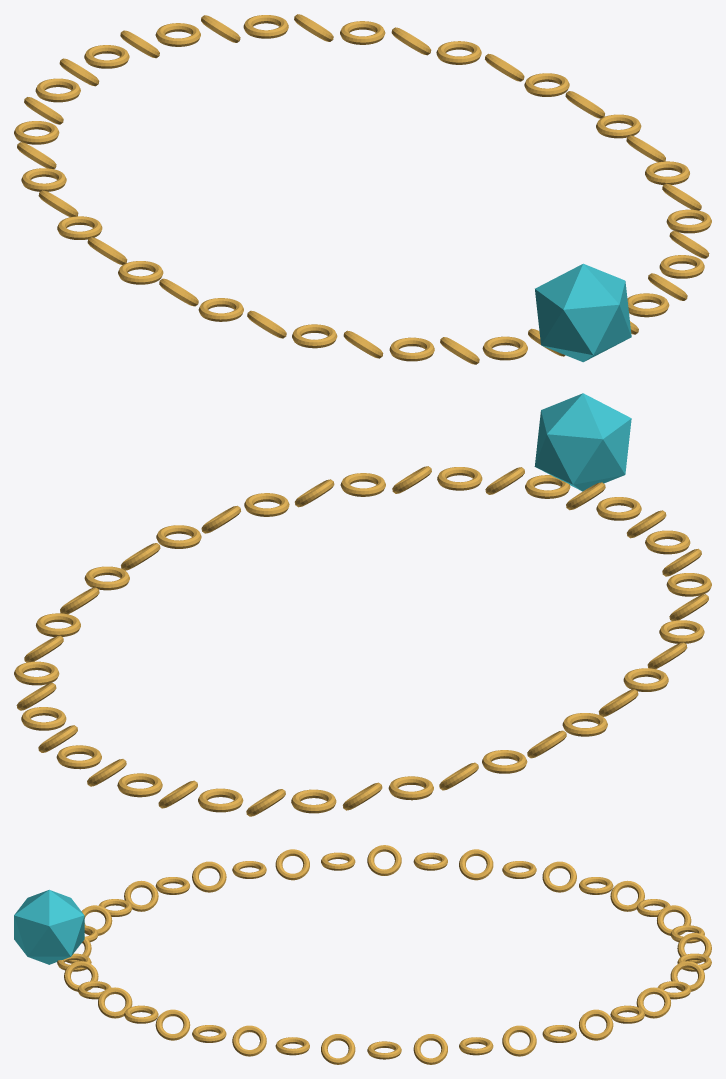
Rendered from Collar.fbx.
3 renders of one model, top to bottom at view 1: azimuth 30°, elevation 25°; view 2: azimuth 150°, elevation 25°; view 3: azimuth 270°, elevation 25°, orthographic. The views are drawn at different scales.
Visible parts, largest first — view 1: Colgante, Eslabon.030, Eslabon.038, Eslabon.014, Eslabon.028, Eslabon.026, Eslabon.002, Eslabon.036, Eslabon.004, Eslabon.008, Eslabon.012, Eslabon (+9 smaller); view 2: Colgante, Eslabon.028, Eslabon, Eslabon.014, Eslabon.004, Eslabon.010, Eslabon.012, Eslabon.030, Eslabon.040, Eslabon.006, Eslabon.018, Eslabon.034 (+10 smaller); view 3: Colgante, Eslabon.003, Eslabon.017, Eslabon.025, Eslabon.037, Eslabon.039, Eslabon.005, Eslabon.021, Eslabon.023, Eslabon.019, Eslabon.001, Eslabon.041 (+26 smaller).
Boxes of the visible parts, left/top/right/bottom form: Colgante: left=535, top=263, right=631, bottom=362; Eslabon.030: left=482, top=336, right=527, bottom=360; Eslabon.038: left=666, top=209, right=711, bottom=233; Eslabon.014: left=35, top=78, right=80, bottom=102; Eslabon.028: left=389, top=337, right=434, bottom=361; Eslabon.026: left=292, top=324, right=337, bottom=348; Eslabon.002: left=524, top=73, right=569, bottom=96; Eslabon.036: left=659, top=255, right=704, bottom=278; Eslabon.004: left=436, top=41, right=481, bottom=64; Eslabon.008: left=243, top=15, right=288, bottom=38; Eslabon.012: left=84, top=45, right=129, bottom=68; Eslabon: left=596, top=114, right=641, bottom=138; Colgante: left=534, top=393, right=631, bottom=491; Eslabon.028: left=645, top=530, right=690, bottom=554; Eslabon: left=84, top=566, right=129, bottom=590; Eslabon.014: left=291, top=789, right=336, bottom=813; Eslabon.004: left=14, top=661, right=59, bottom=685; Eslabon.010: left=117, top=773, right=162, bottom=797; Eslabon.012: left=198, top=788, right=243, bottom=812; Eslabon.030: left=596, top=497, right=641, bottom=520; Eslabon.040: left=156, top=525, right=201, bottom=548; Eslabon.006: left=21, top=707, right=66, bottom=730; Eslabon.018: left=482, top=750, right=527, bottom=773; Eslabon.034: left=437, top=467, right=482, bottom=490; Colgante: left=14, top=889, right=84, bottom=964; Eslabon.003: left=502, top=1025, right=536, bottom=1056; Eslabon.017: left=542, top=861, right=576, bottom=892; Eslabon.025: left=192, top=861, right=226, bottom=892; Eslabon.037: left=155, top=1009, right=190, bottom=1040; Eslabon.039: left=232, top=1025, right=266, bottom=1056; Eslabon.005: left=579, top=1009, right=613, bottom=1040; Eslabon.021: left=367, top=845, right=401, bottom=875; Eslabon.023: left=275, top=849, right=309, bottom=880; Eslabon.019: left=459, top=849, right=493, bottom=880; Eslabon.001: left=413, top=1034, right=447, bottom=1064; Eslabon.041: left=321, top=1034, right=355, bottom=1064.
Size of the model in its own units: 13.93 by 2.44 by 20.2.
